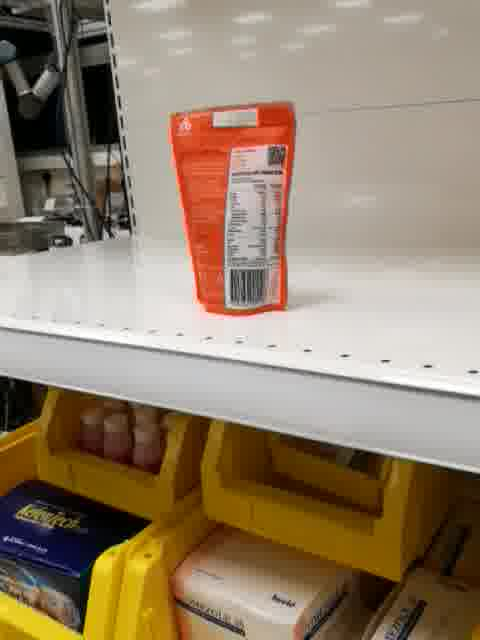whitechia: (168, 100, 299, 319)
